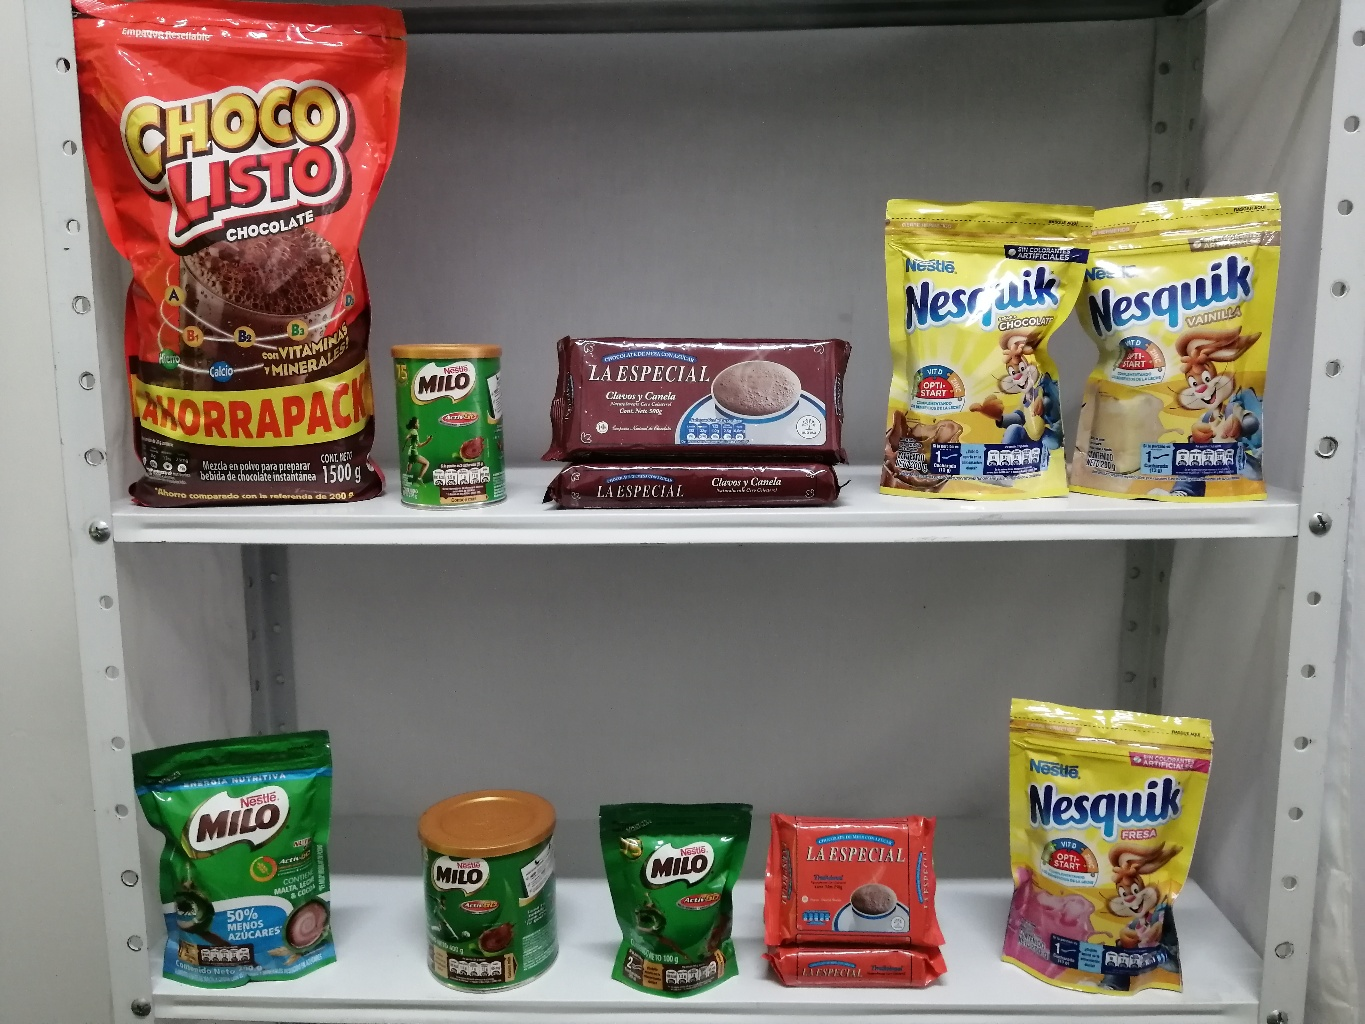COL0170103DYP1,500: (53, 2, 410, 511)
COL0170203DYP10000: (587, 787, 757, 1002)
COL0170203LAT20000: (392, 333, 514, 515)
COL0170203LAT40000: (394, 770, 578, 996)
COL0170205DYP20000: (115, 719, 356, 991)
COL0170303DYP20000: (872, 182, 1097, 502)
COL0170305DYP20000: (990, 693, 1231, 1006)
COL0170306DYP20000: (1064, 185, 1289, 504)
